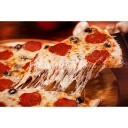pepperonipizza: (3, 26, 123, 105)
